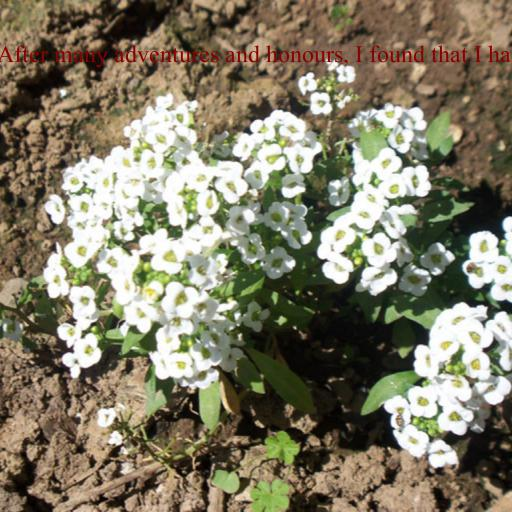Times New Roman: (0, 45, 512, 68)
